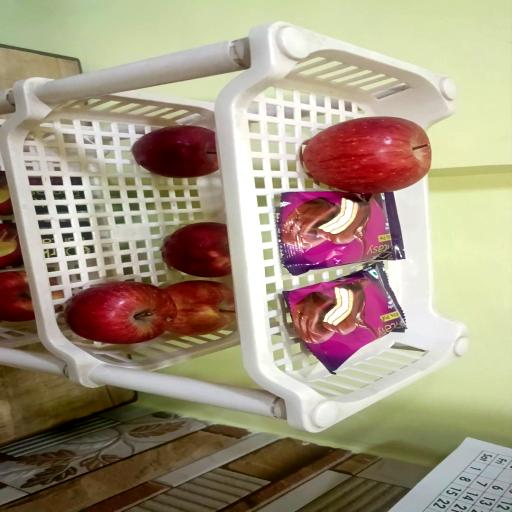Apple: (300, 119, 430, 196), (64, 283, 175, 345), (131, 125, 217, 177), (166, 281, 238, 337), (165, 224, 232, 280), (0, 272, 35, 323)
Choco Fills: (0, 222, 23, 268), (0, 170, 13, 215)
Choco Pie: (284, 263, 406, 375), (278, 193, 405, 277)
